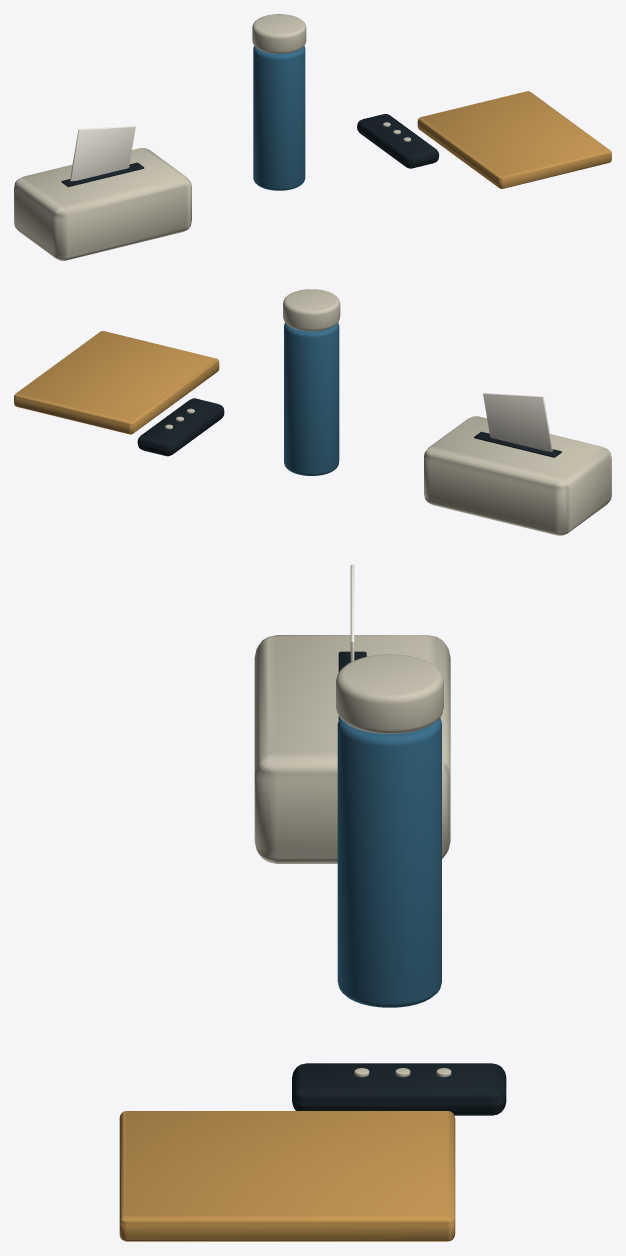
File: urban-coffee-kit-v1.glb
The picture shows the model from 3 angles, top to bottom: view 1: azimuth 30°, elevation 25°; view 2: azimuth 150°, elevation 25°; view 3: azimuth 270°, elevation 25°; orthographic projection. The views are drawn at different scales.
Parts seen in each view (by area): view 1: Tissue box, Family reading, Vacuum bottle, Folded tissue, Remote, Thermos lid, Tissue opening; view 2: Tissue box, Family reading, Vacuum bottle, Folded tissue, Remote, Thermos lid, Tissue opening; view 3: Family reading, Vacuum bottle, Tissue box, Remote, Thermos lid.
Boxes of the visible parts, bbox=[...] form: Tissue box: bbox=[14, 148, 191, 260]; Family reading: bbox=[417, 91, 611, 188]; Vacuum bottle: bbox=[253, 45, 305, 190]; Folded tissue: bbox=[70, 126, 135, 181]; Remote: bbox=[357, 114, 439, 168]; Thermos lid: bbox=[252, 14, 306, 53]; Tissue opening: bbox=[61, 162, 144, 186]; Tissue box: bbox=[424, 416, 611, 535]; Family reading: bbox=[14, 331, 219, 434]; Vacuum bottle: bbox=[284, 322, 339, 475]; Folded tissue: bbox=[483, 393, 552, 451]; Remote: bbox=[137, 398, 224, 456]; Thermos lid: bbox=[283, 289, 340, 331]; Tissue opening: bbox=[474, 431, 561, 457]; Family reading: bbox=[119, 1111, 455, 1241]; Vacuum bottle: bbox=[337, 717, 441, 1007]; Tissue box: bbox=[254, 635, 450, 863]; Remote: bbox=[292, 1063, 506, 1115]; Thermos lid: bbox=[336, 654, 443, 733].
Size of the model in its own units: 0.645 by 0.1855 by 0.2075.
5 materials, 5 textured.
